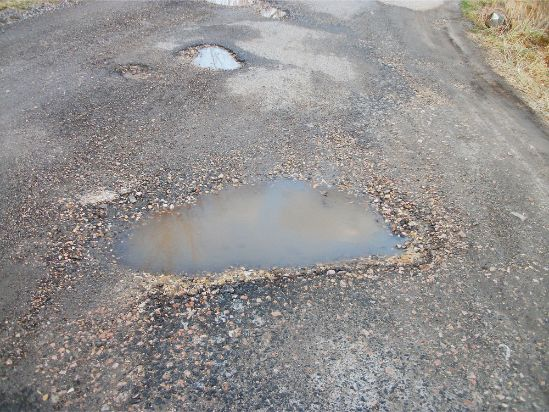pothole: (102, 168, 424, 279), (181, 40, 246, 72)
